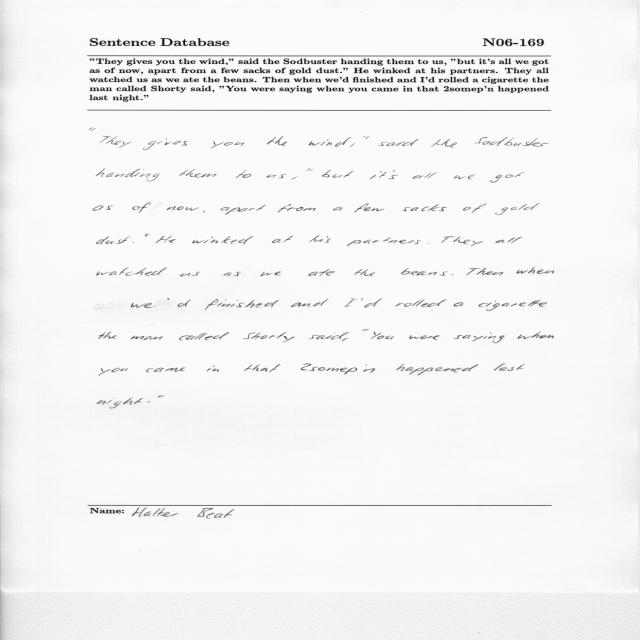word: (397, 364, 479, 375), (96, 169, 160, 182), (205, 299, 279, 310), (301, 364, 375, 375), (479, 300, 547, 311), (475, 137, 548, 147), (309, 329, 365, 341), (97, 267, 167, 276), (347, 238, 421, 246), (243, 332, 295, 343), (454, 332, 505, 343), (143, 138, 188, 150), (495, 203, 540, 215), (97, 398, 143, 409), (192, 236, 253, 244), (221, 205, 266, 215), (308, 137, 351, 147), (441, 237, 483, 247), (395, 299, 446, 307), (179, 332, 229, 340), (100, 136, 132, 148), (401, 268, 448, 276), (490, 172, 524, 183), (453, 268, 504, 275), (179, 169, 217, 178), (278, 204, 316, 213), (403, 205, 447, 212), (355, 203, 385, 213), (291, 299, 328, 307), (517, 331, 554, 339), (244, 364, 281, 372), (379, 139, 419, 146), (97, 236, 131, 244), (517, 267, 555, 274), (321, 170, 354, 178), (431, 139, 457, 148), (99, 368, 128, 376), (211, 141, 244, 148), (463, 204, 486, 214), (494, 364, 525, 371), (291, 169, 310, 180), (168, 298, 191, 307), (267, 136, 287, 146), (362, 298, 382, 308), (146, 368, 185, 373), (132, 203, 151, 213), (308, 269, 335, 276), (413, 172, 437, 179), (310, 235, 331, 243), (350, 136, 365, 147), (496, 237, 523, 243), (167, 206, 199, 211), (131, 335, 163, 340), (410, 335, 440, 340), (272, 236, 293, 243), (354, 269, 375, 276), (369, 172, 387, 180), (99, 332, 117, 340), (156, 236, 176, 243), (236, 170, 251, 178), (93, 205, 113, 211), (132, 303, 156, 308), (260, 272, 281, 277), (344, 299, 357, 307), (454, 175, 474, 180), (180, 272, 200, 277), (388, 170, 398, 179), (371, 331, 382, 339), (207, 365, 219, 372), (266, 174, 286, 178), (148, 396, 161, 402), (223, 272, 241, 276), (377, 336, 394, 340), (453, 302, 463, 307), (333, 207, 343, 211), (90, 128, 97, 131), (145, 234, 149, 237), (366, 136, 369, 139), (365, 329, 369, 331), (310, 169, 313, 171), (161, 396, 164, 398), (203, 211, 205, 213), (133, 242, 135, 243), (451, 274, 453, 275), (428, 243, 430, 243)
